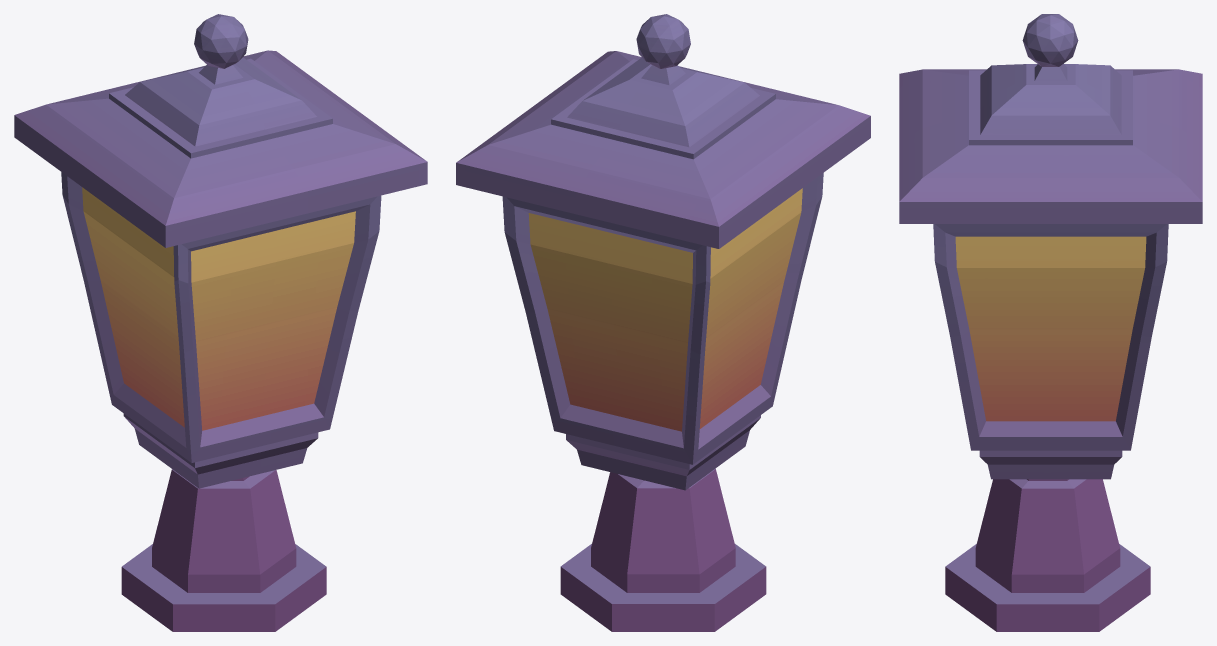
File: small_streetlamp_2.gltf
3 views of the same model, side by side, from view 1: azimuth 30°, elevation 25°; view 2: azimuth 150°, elevation 25°; view 3: azimuth 270°, elevation 25° (orthographic).
Parts seen in each view (by area): view 1: Object_35; view 2: Object_35; view 3: Object_35.
Part boxes in pixels (bbox=[...]): Object_35: bbox=[14, 14, 427, 631]; Object_35: bbox=[456, 14, 870, 631]; Object_35: bbox=[899, 14, 1202, 631].
Bounding box in the file's own units: 1.37 × 2.89 × 1.37.
1 material, 1 textured.
